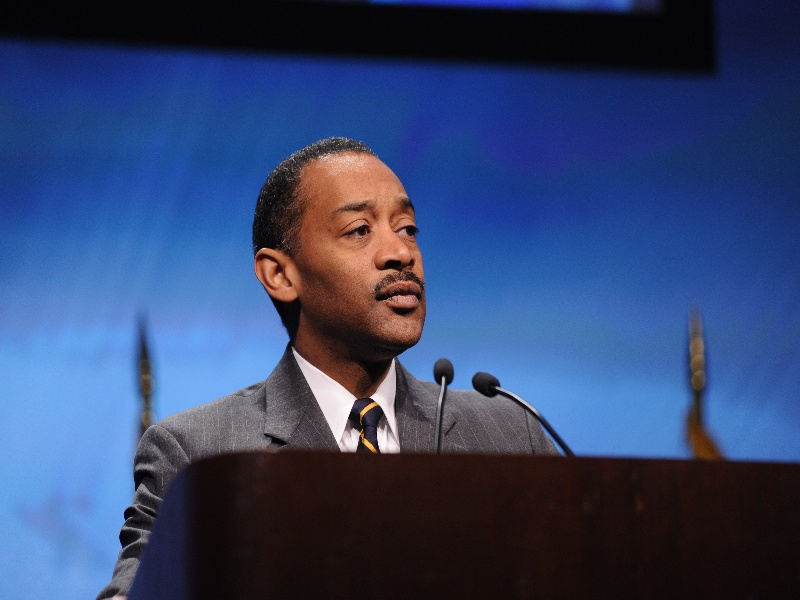face: (259, 158, 453, 366)
